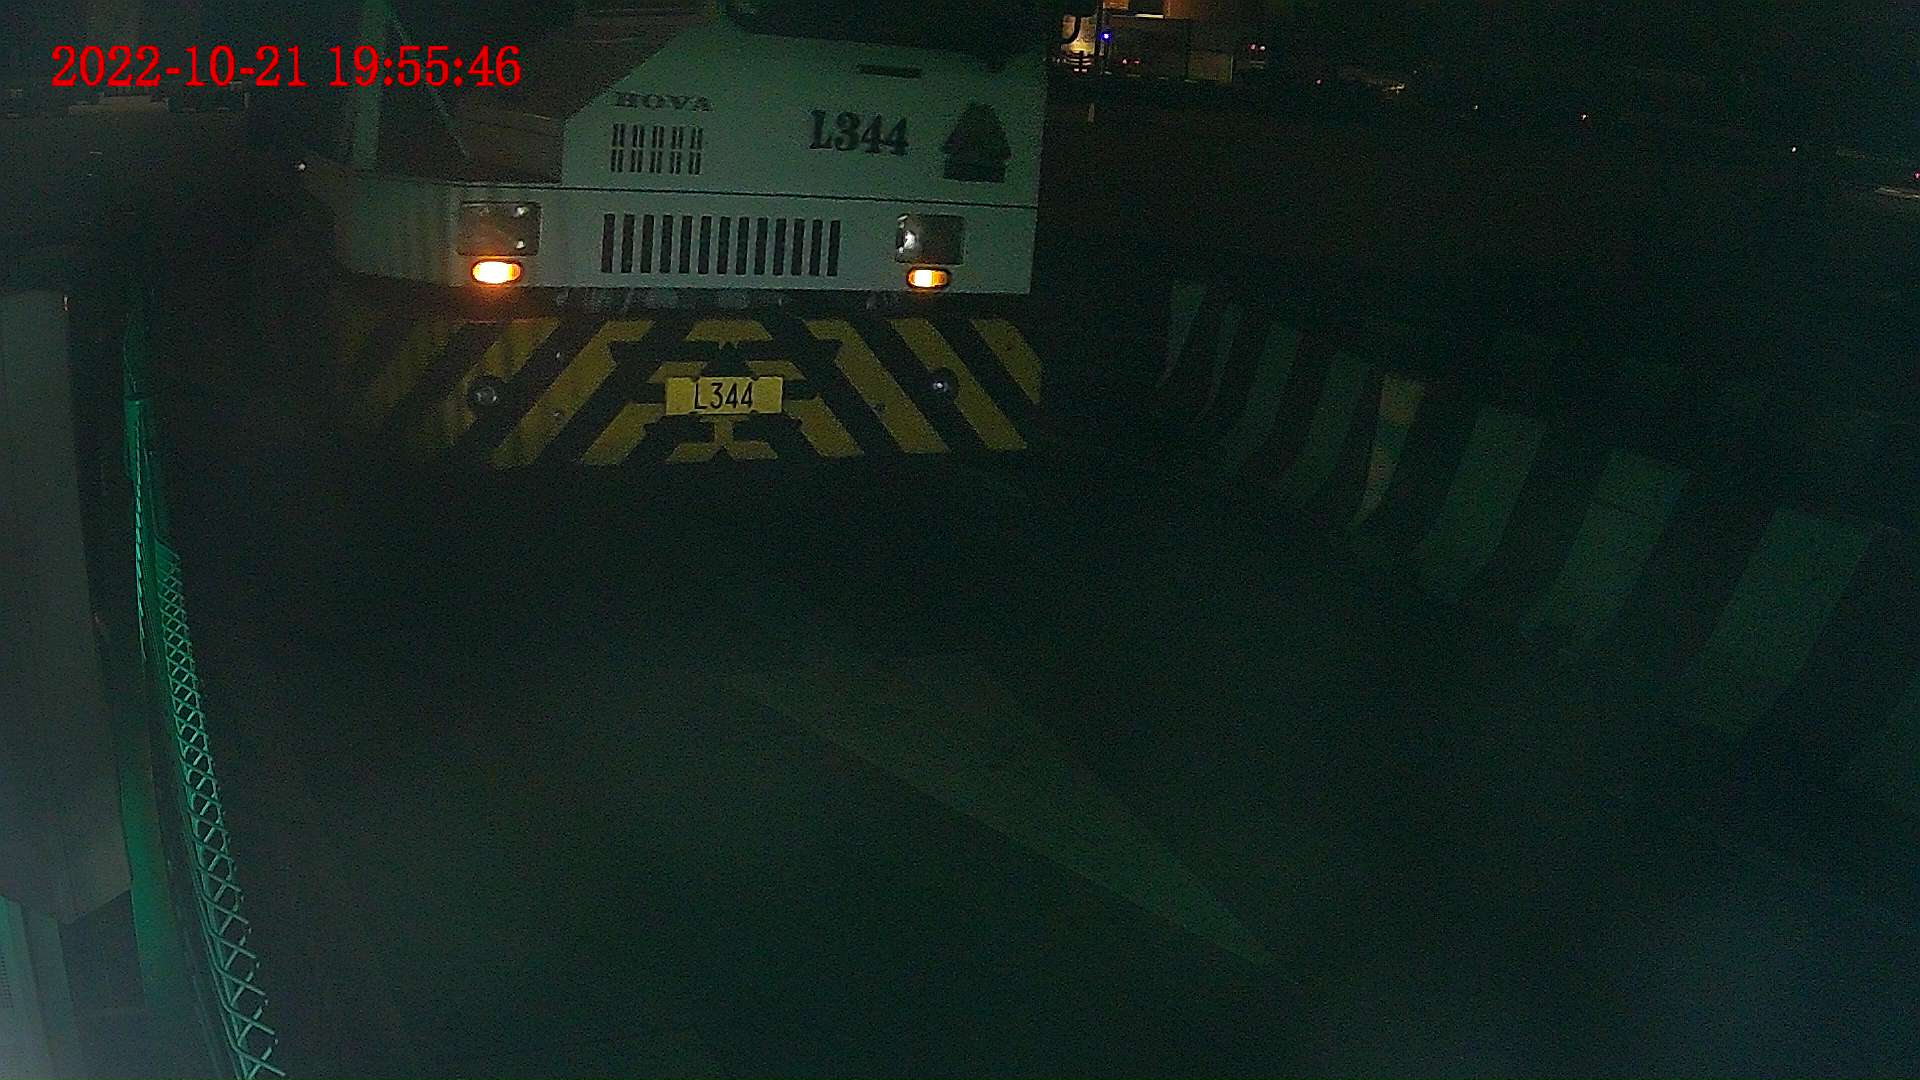head: (227, 1, 1054, 484)
plate: (660, 376, 776, 409)
